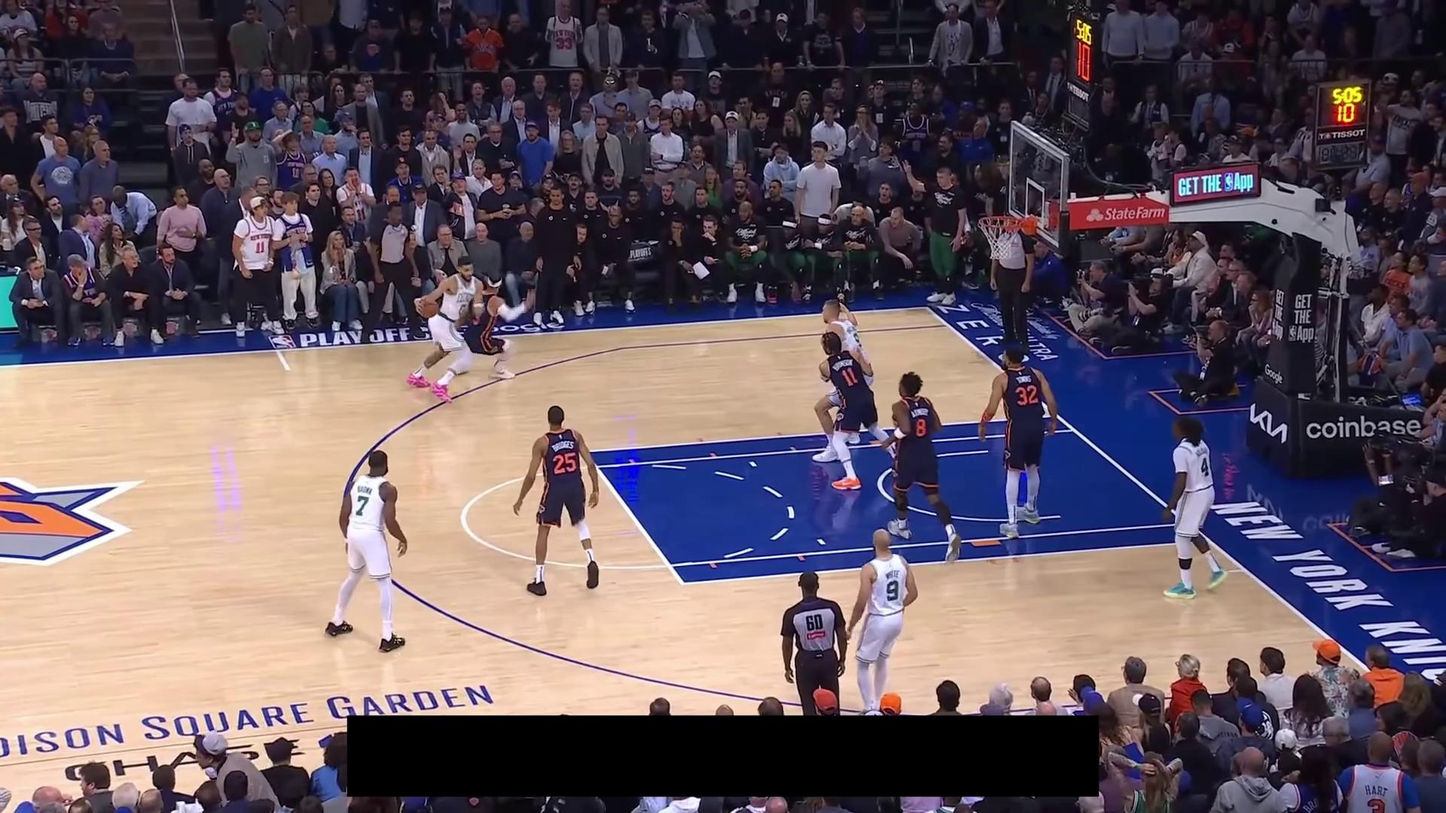ball: (419, 298, 439, 318)
number: (553, 452, 577, 475), (1015, 385, 1038, 406), (841, 367, 859, 387), (355, 495, 370, 516), (886, 580, 899, 601), (915, 417, 927, 437), (1200, 458, 1209, 477)
player: (511, 404, 602, 598), (324, 448, 409, 654), (880, 370, 964, 566), (977, 345, 1060, 540), (845, 525, 920, 716), (812, 332, 900, 492), (1161, 413, 1231, 601), (812, 298, 874, 463), (450, 273, 538, 385)
player-in-possession: (407, 257, 485, 404)
referee: (779, 570, 848, 716), (364, 202, 429, 346), (989, 230, 1036, 354)
rim: (978, 215, 1023, 230)
